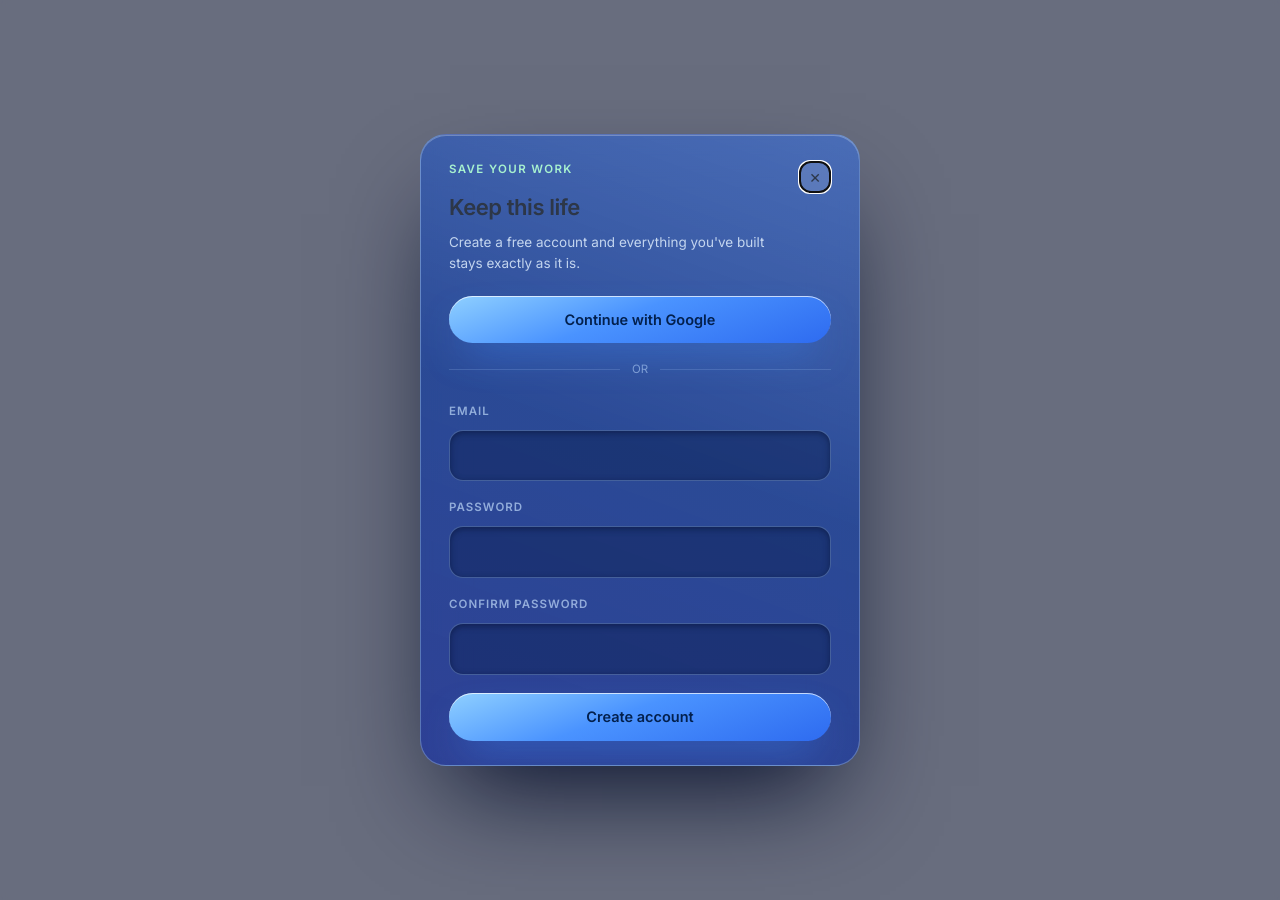
Test: SaveWorkModal - email save › shows the account-already-exists case on collision, without pretending it merged
Type "existing@example.com" into the field labelled "EMAIL" at (640,455), box [449, 430, 831, 481]
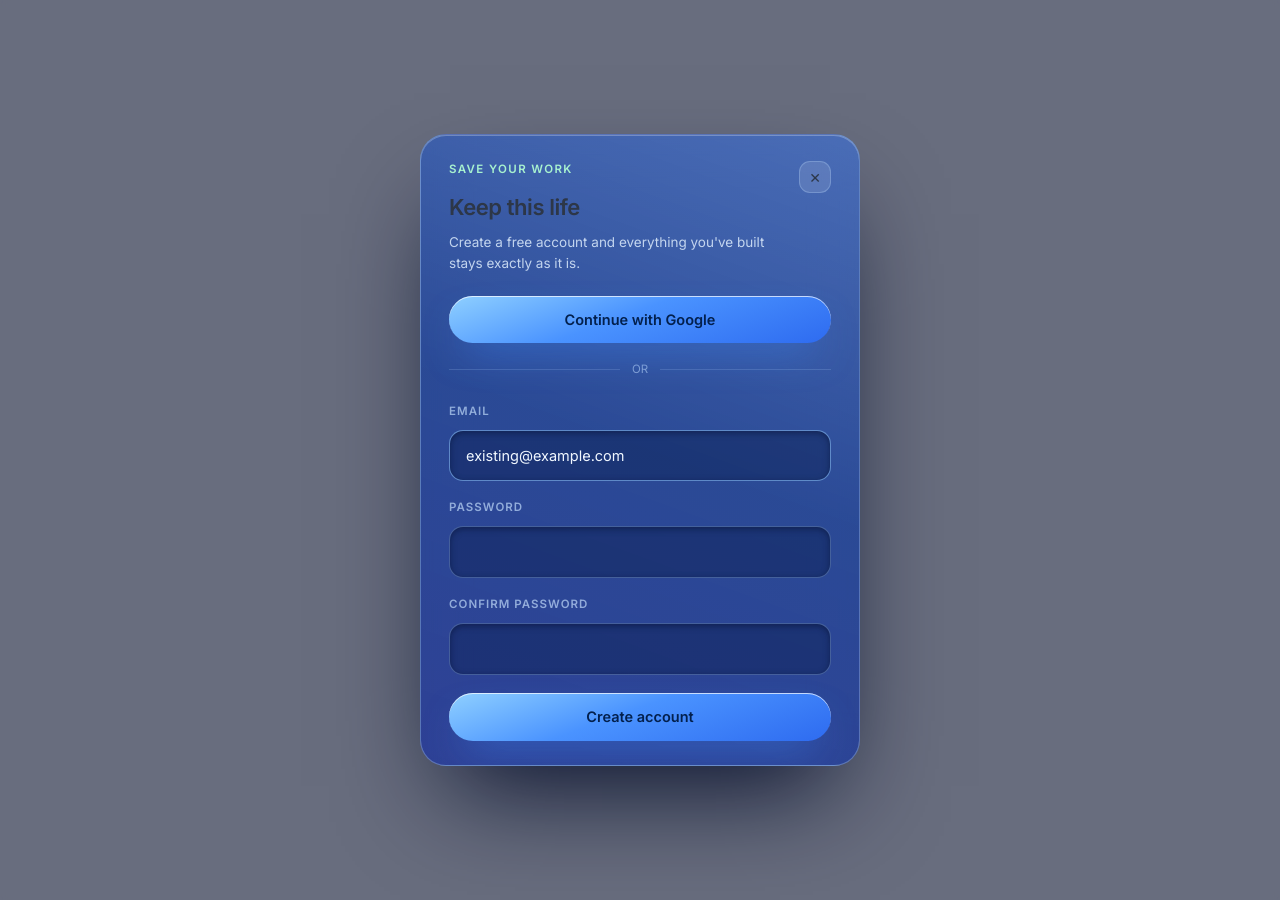
Type "password123" into the password field labelled "PASSWORD" at (640,552), box [449, 526, 831, 578]
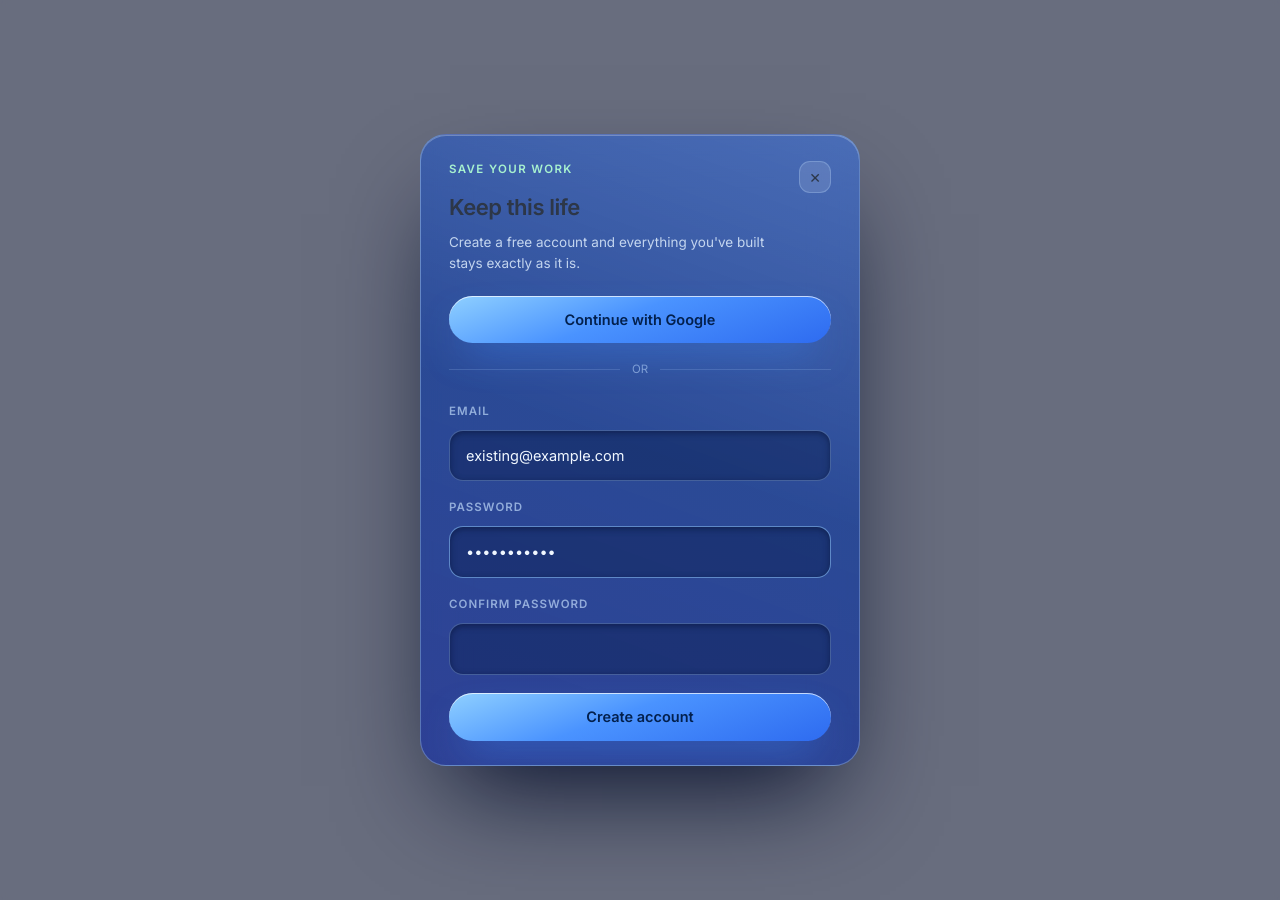
Type "password123" into the password field labelled "CONFIRM PASSWORD" at (640,649), box [449, 623, 831, 675]
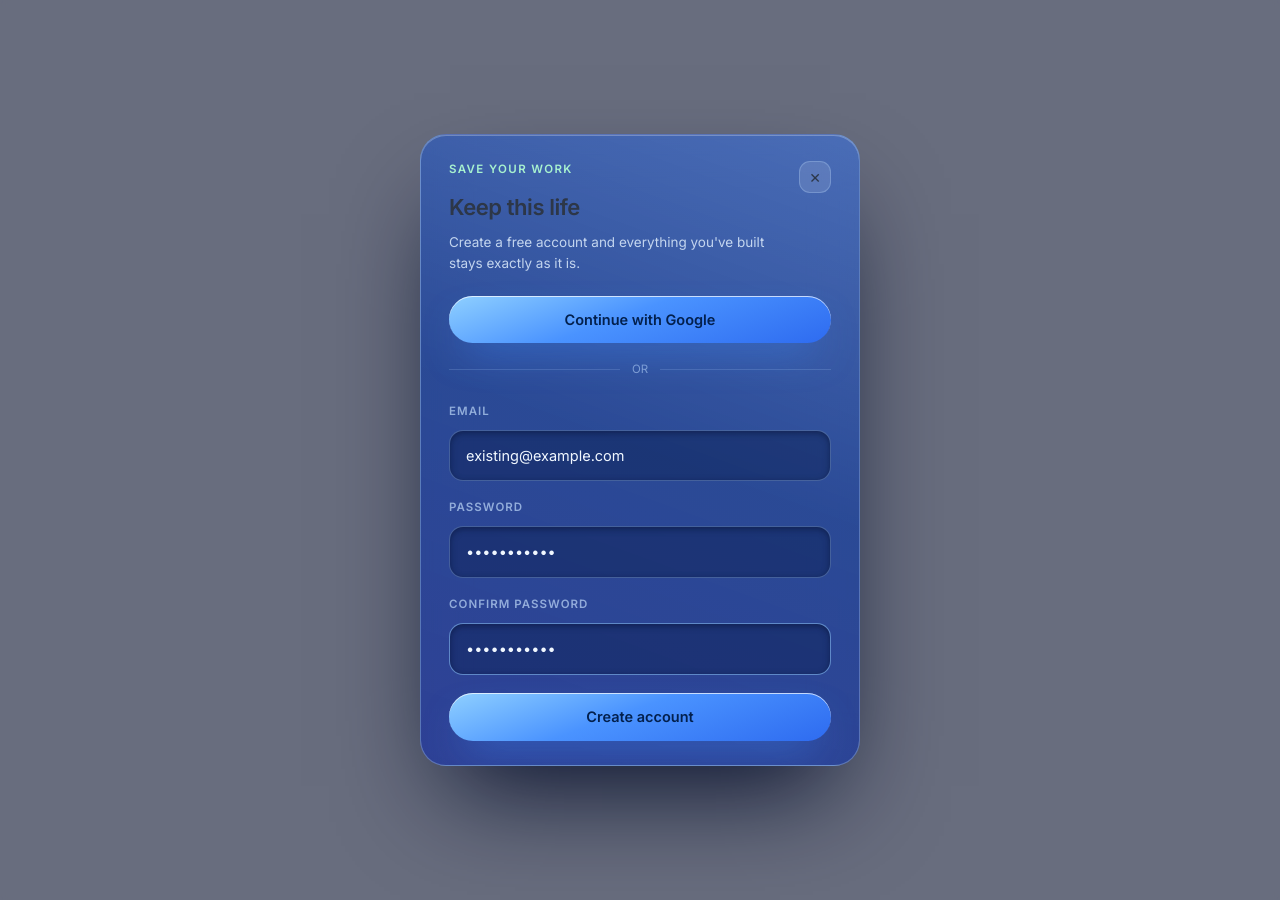
Click the button "Create account" at (640,717), box [449, 693, 831, 741]
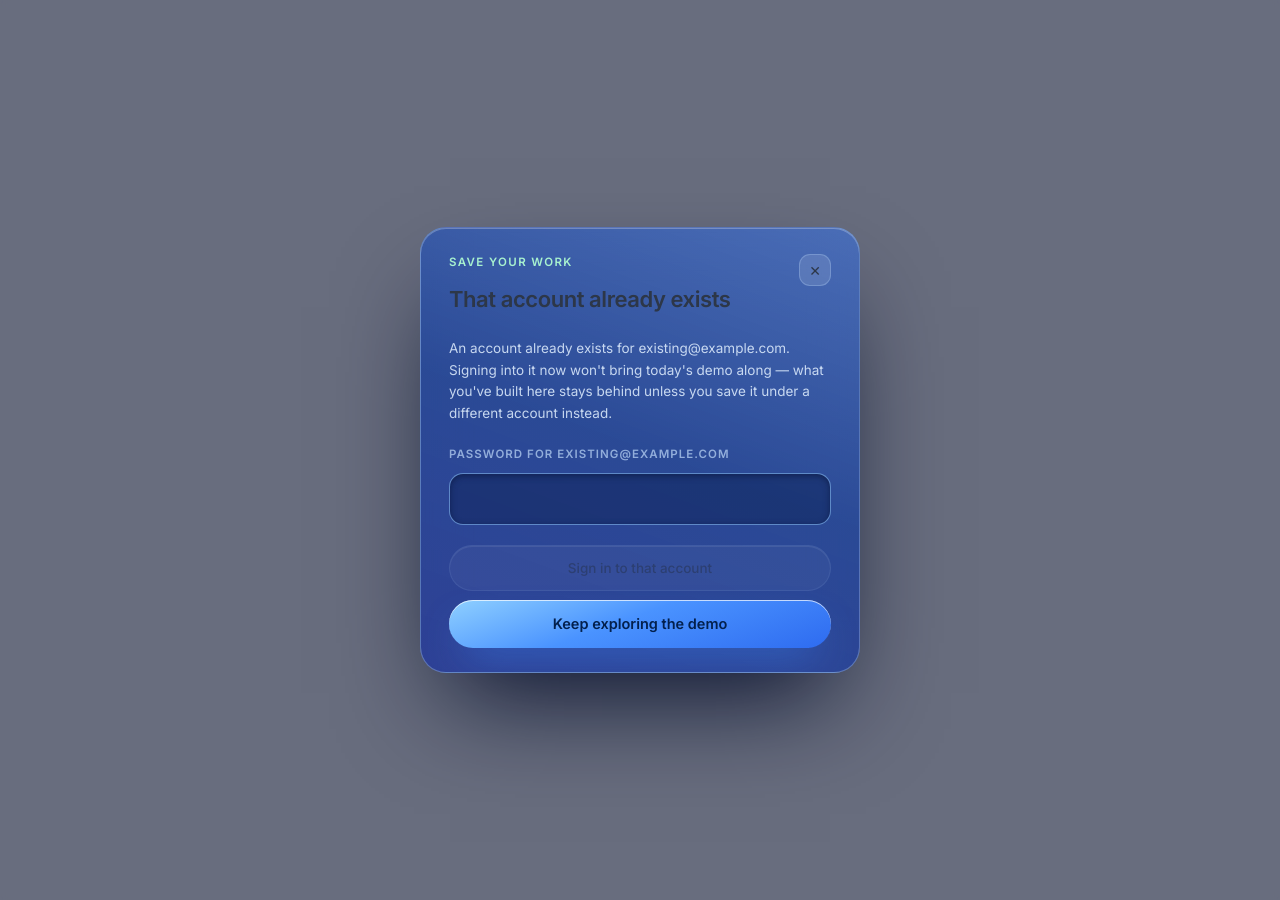
Now the text "That account already exists" is shown, box [449, 283, 730, 316]
Now the text "An account already exists for existing@example.com" is shown, box [449, 340, 790, 356]
Now the text "won't bring today's demo along" is shown, box [449, 362, 824, 421]
